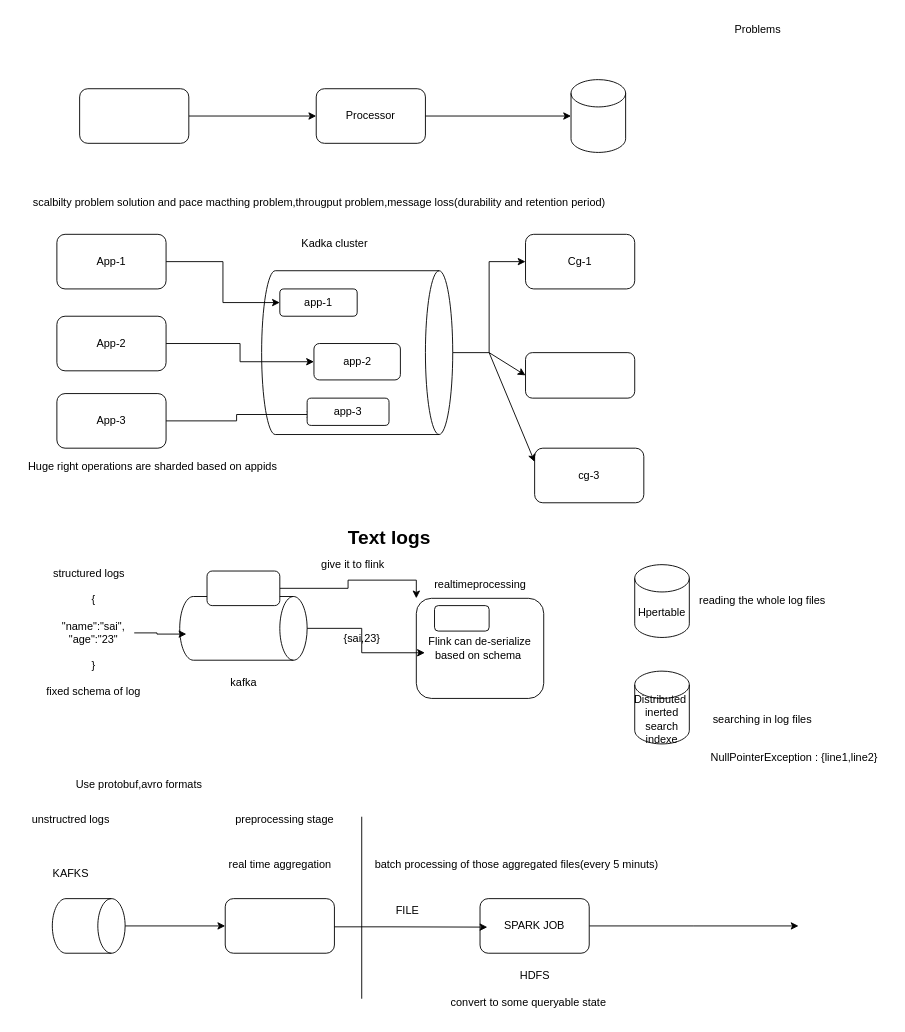
The diagram is 905 pixels wide and 1032 high, and some of its shapes have lost their labels. The shapes that lost their labels are listed below. From the top down, each one's centre as x and y in pixels, then its label:
[134,115]: Publisher
[598,115]: DB
[580,375]: Cg-2
[243,588]: schema registry
[461,618]: schema cache
[279,925]: Flink(aggregate to file)
